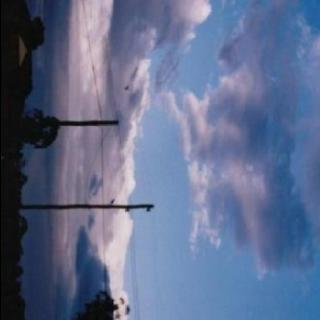Stratocumulus: (27, 0, 320, 320)
